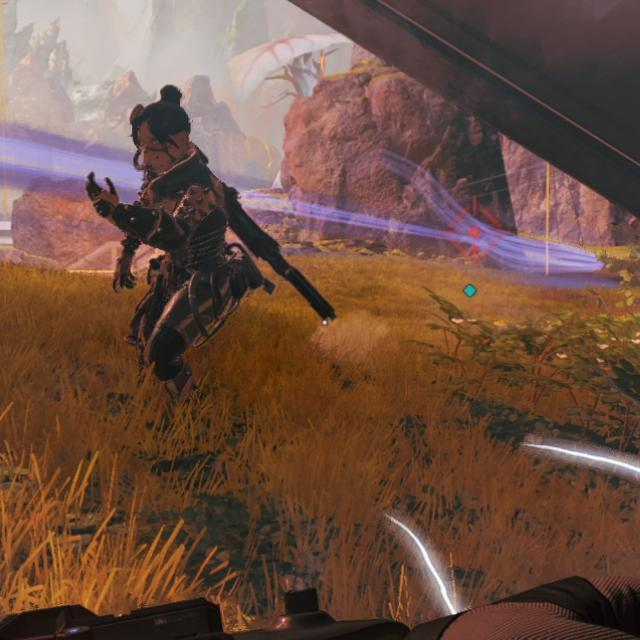avatar: (82, 83, 266, 398)
